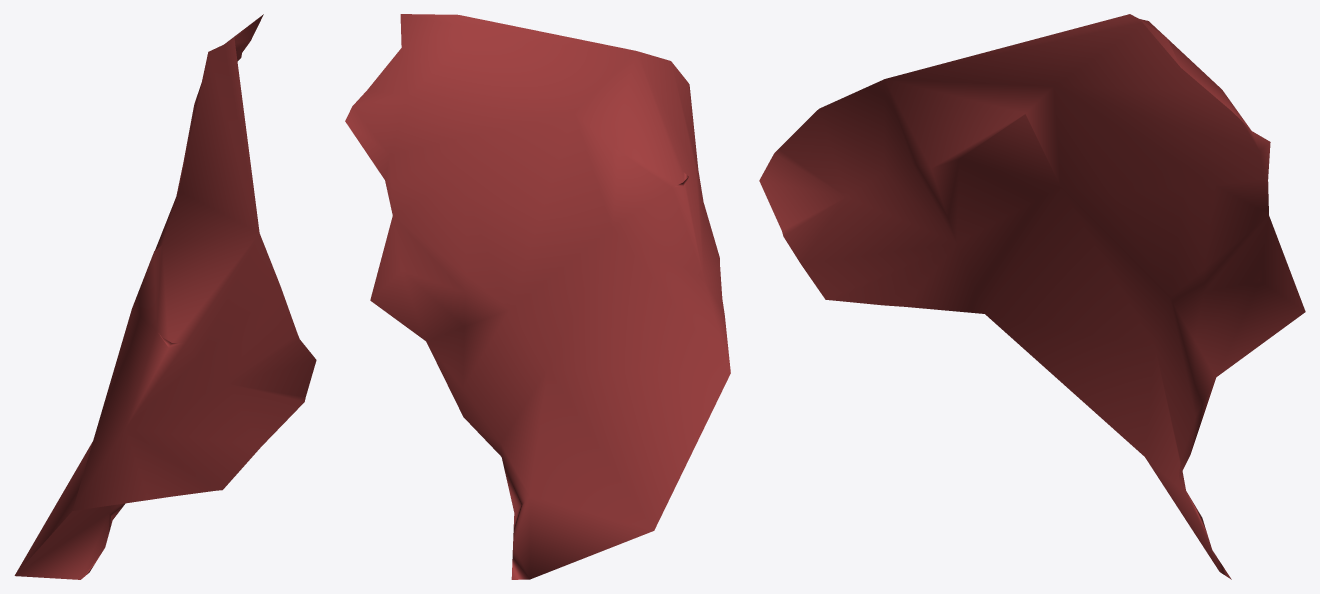
The model's file is temporalis-muscle-o3l.glb.
3 views of the same model, side by side, from view 1: azimuth 30°, elevation 25°; view 2: azimuth 150°, elevation 25°; view 3: azimuth 270°, elevation 25° (orthographic). The views are drawn at different scales.
Visible parts, largest first — view 1: Temporalis muscle.o3l; view 2: Temporalis muscle.o3l; view 3: Temporalis muscle.o3l.
Boxes of the visible parts, bbox=[...] form: Temporalis muscle.o3l: bbox=[14, 14, 316, 579]; Temporalis muscle.o3l: bbox=[345, 14, 730, 579]; Temporalis muscle.o3l: bbox=[759, 14, 1305, 579].
Size of the model in its own units: 0.0173 by 0.0315 by 0.025.
